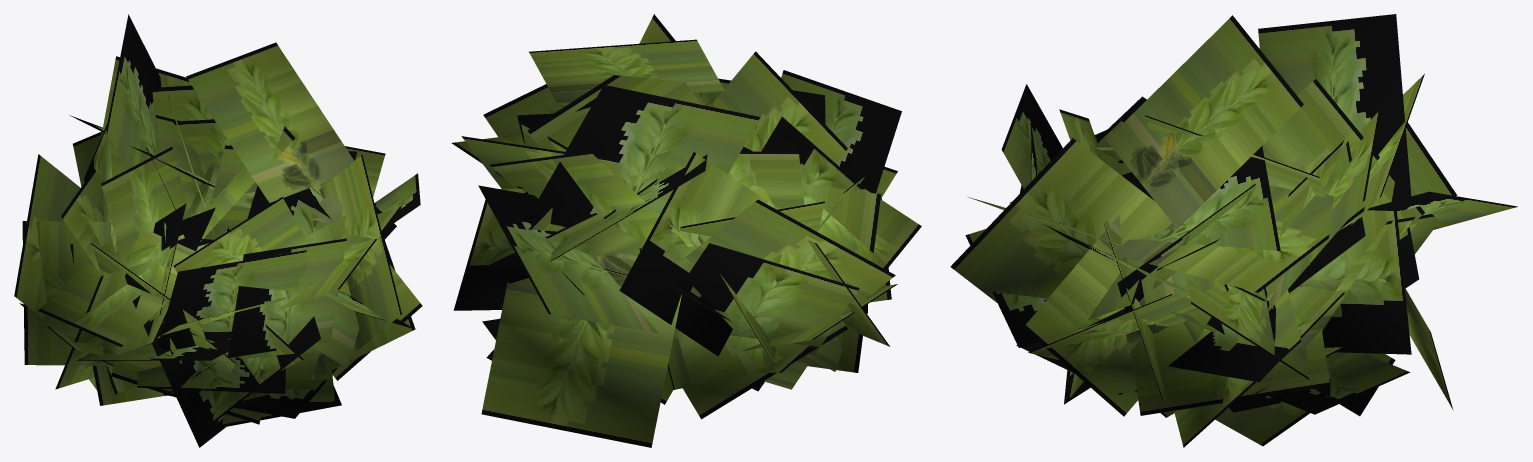
Rendered from bush_wide.glb.
3 renders of one model, left to right at view 1: azimuth 30°, elevation 25°; view 2: azimuth 150°, elevation 25°; view 3: azimuth 270°, elevation 25°, orthographic. The views are drawn at different scales.
Parts seen in each view (by area): view 1: plant; view 2: plant; view 3: plant.
Part boxes in pixels (x1,y1,x2,y2): plant: (14,14,422,447); plant: (451,14,921,447); plant: (950,14,1517,447).
Bounding box in the file's own units: 2.19 × 1.63 × 2.4.
2 materials, 2 textured.
